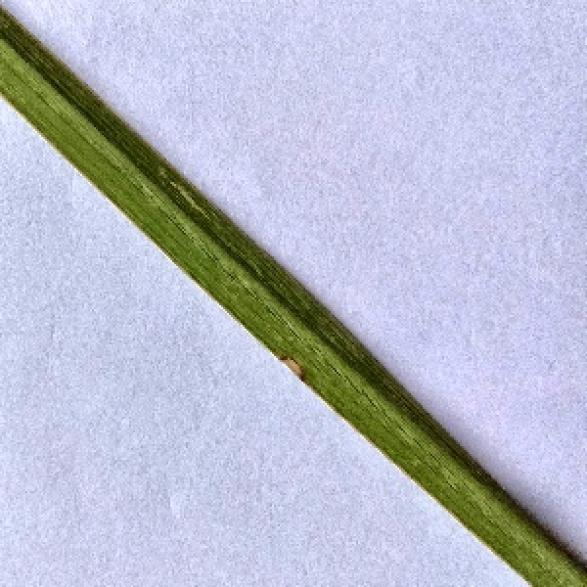Leaf_smut: (272, 328, 323, 384)
